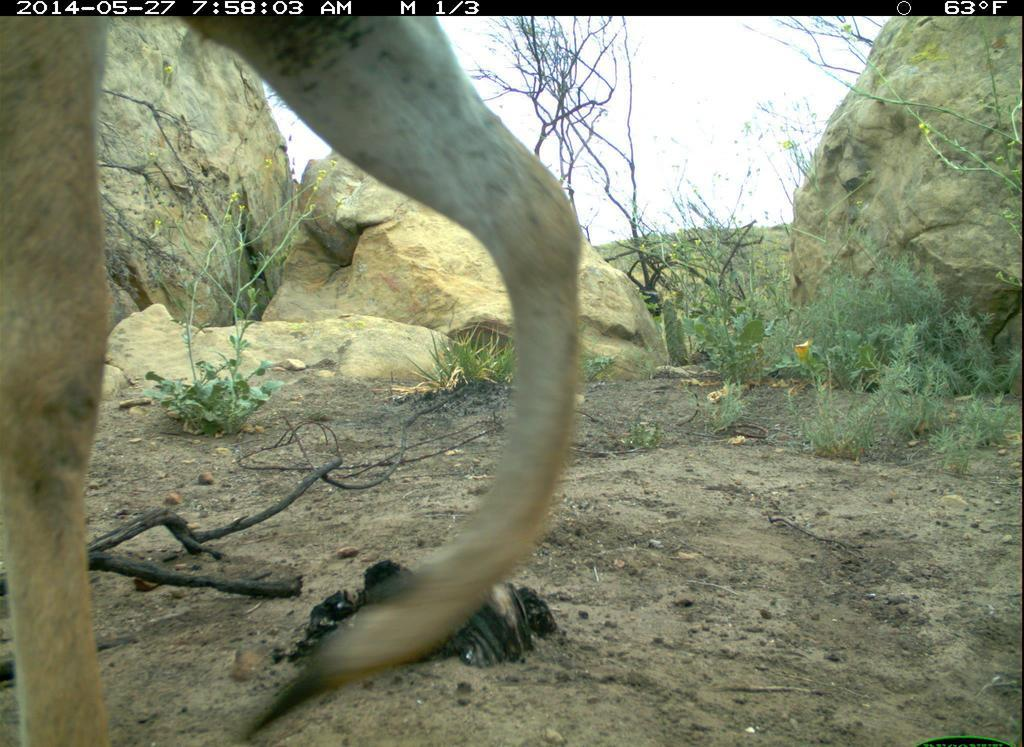deer: (2, 11, 591, 747)
